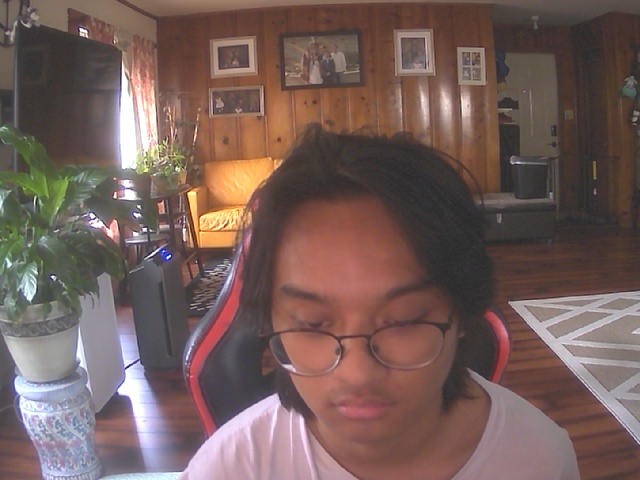neutral: (253, 142, 469, 448)
